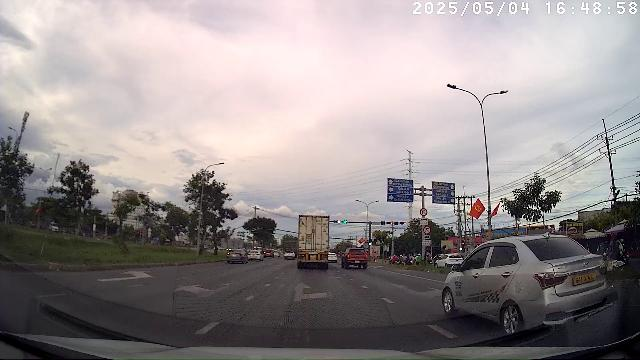123b-cam-re-phai: (419, 208, 428, 216), (423, 226, 431, 234)
